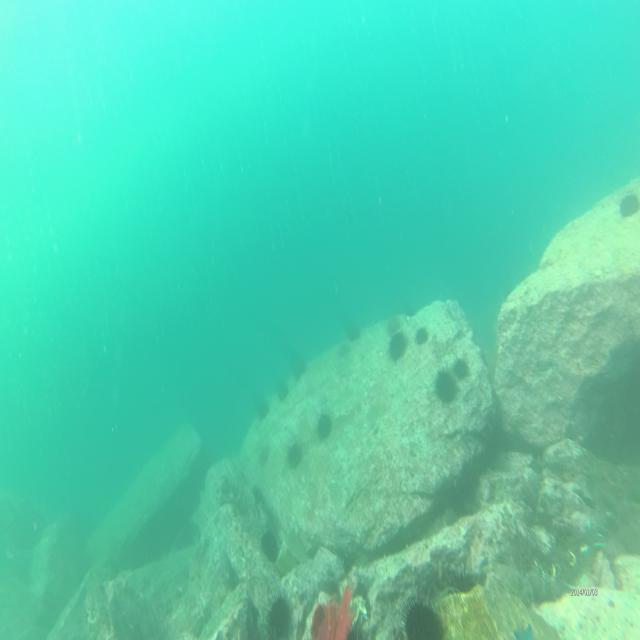echinus: (398, 591, 442, 640), (264, 593, 296, 640), (432, 364, 458, 406), (259, 527, 282, 563), (315, 409, 333, 445), (388, 332, 408, 364), (283, 438, 303, 468), (619, 188, 639, 217), (288, 348, 304, 380), (274, 377, 290, 406), (254, 395, 271, 422), (454, 354, 470, 380)
